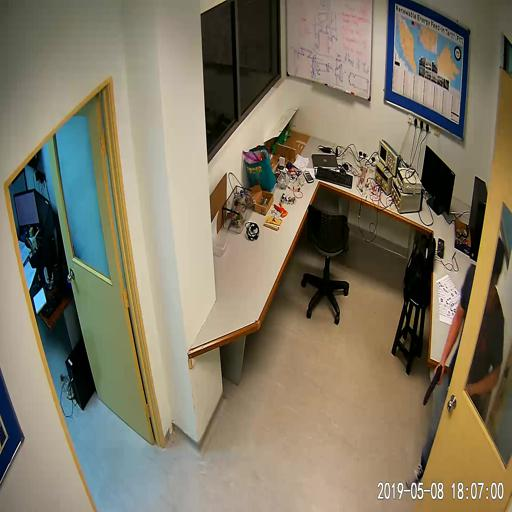pistol: (423, 364, 443, 403)
